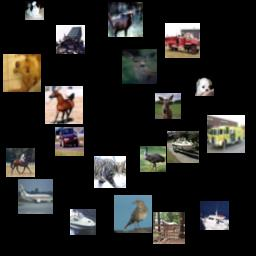airplane: (18, 179, 53, 214)
automobile: (55, 127, 84, 156)
bird: (114, 195, 152, 233), (140, 146, 166, 172)
cat: (94, 156, 126, 188)
deer: (122, 49, 157, 84), (108, 2, 143, 37), (155, 93, 181, 119)
dog: (3, 54, 41, 92), (25, 1, 44, 20), (195, 77, 214, 96)
ship: (167, 131, 199, 163), (200, 201, 229, 230), (70, 209, 96, 235)
truck: (207, 115, 245, 153), (165, 23, 200, 58), (56, 25, 85, 54)
